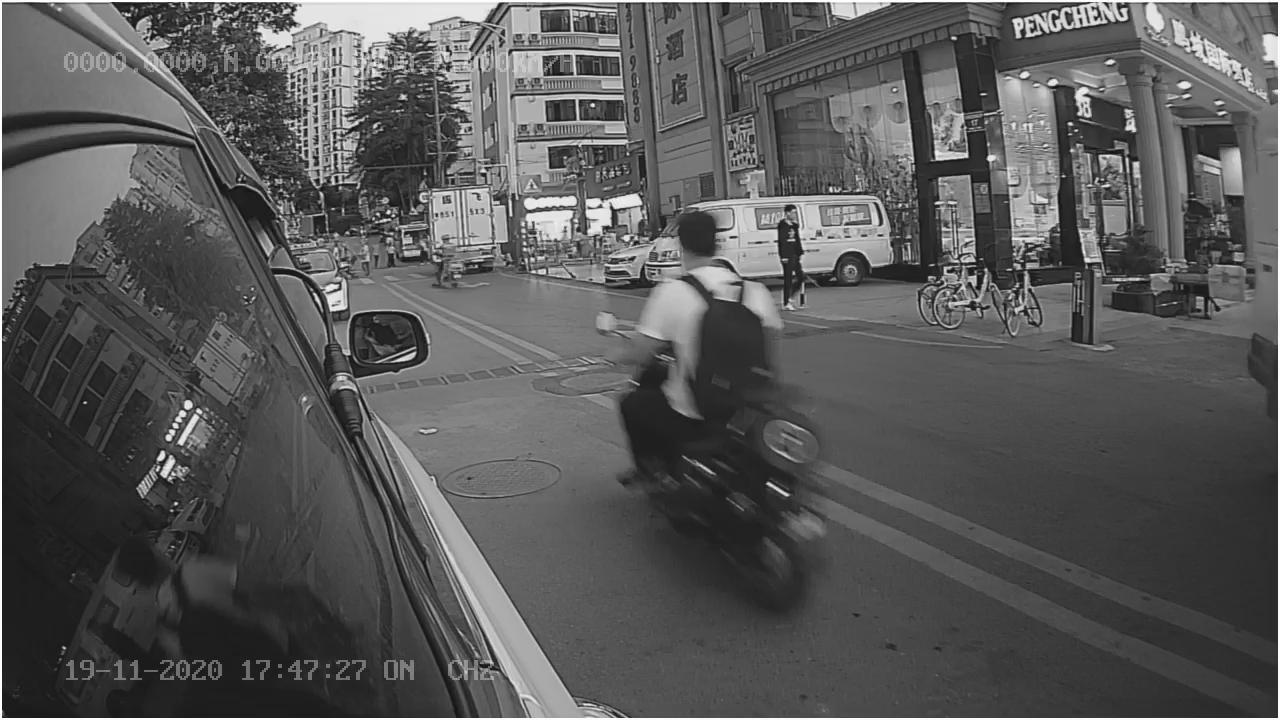person: (640, 215, 779, 419)
